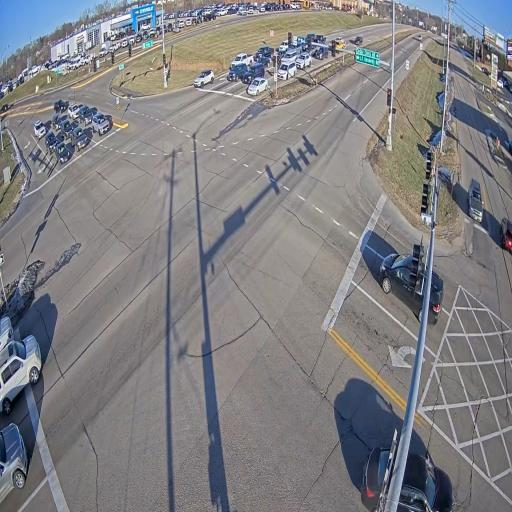pickup: (71, 127, 88, 152), (255, 46, 274, 60)
sedan: (397, 452, 452, 512), (361, 447, 390, 512), (247, 77, 269, 95), (56, 142, 71, 165), (256, 56, 271, 68), (353, 36, 362, 45)
suv: (0, 336, 42, 415), (0, 423, 27, 501), (468, 178, 482, 224), (0, 315, 14, 351), (92, 112, 110, 136), (500, 218, 512, 254), (227, 63, 247, 82), (194, 70, 214, 88), (45, 130, 58, 153), (79, 105, 93, 126), (296, 52, 311, 69), (61, 119, 73, 140), (281, 48, 297, 63), (34, 120, 46, 139), (67, 103, 79, 120), (52, 113, 62, 132), (315, 46, 328, 60), (54, 100, 67, 113), (313, 34, 326, 43), (303, 39, 311, 51), (294, 42, 302, 53), (336, 41, 344, 52)
van: (377, 253, 424, 322), (428, 271, 444, 324), (242, 64, 264, 84), (277, 59, 297, 80), (278, 40, 289, 51)
